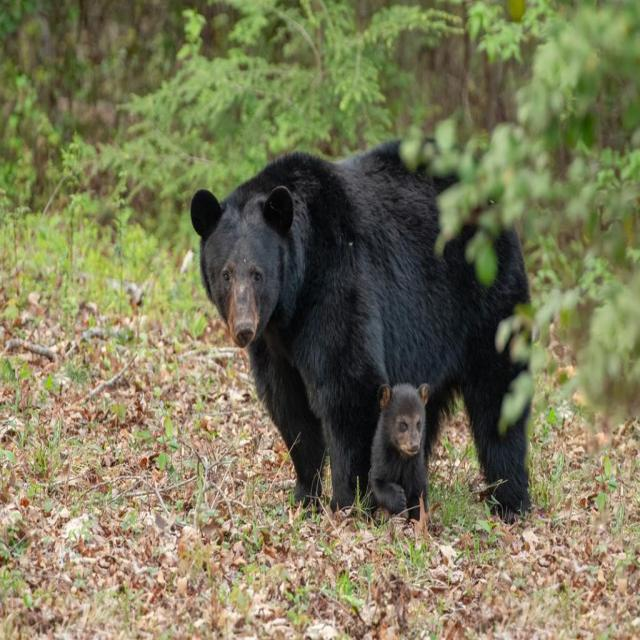Bear: (188, 142, 532, 520), (368, 384, 432, 522)
